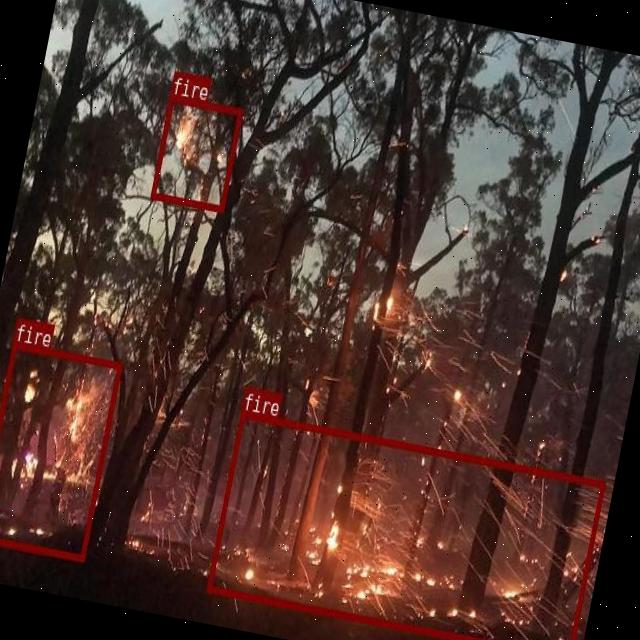fire: (206, 411, 604, 640), (0, 342, 122, 560), (150, 95, 242, 212)
